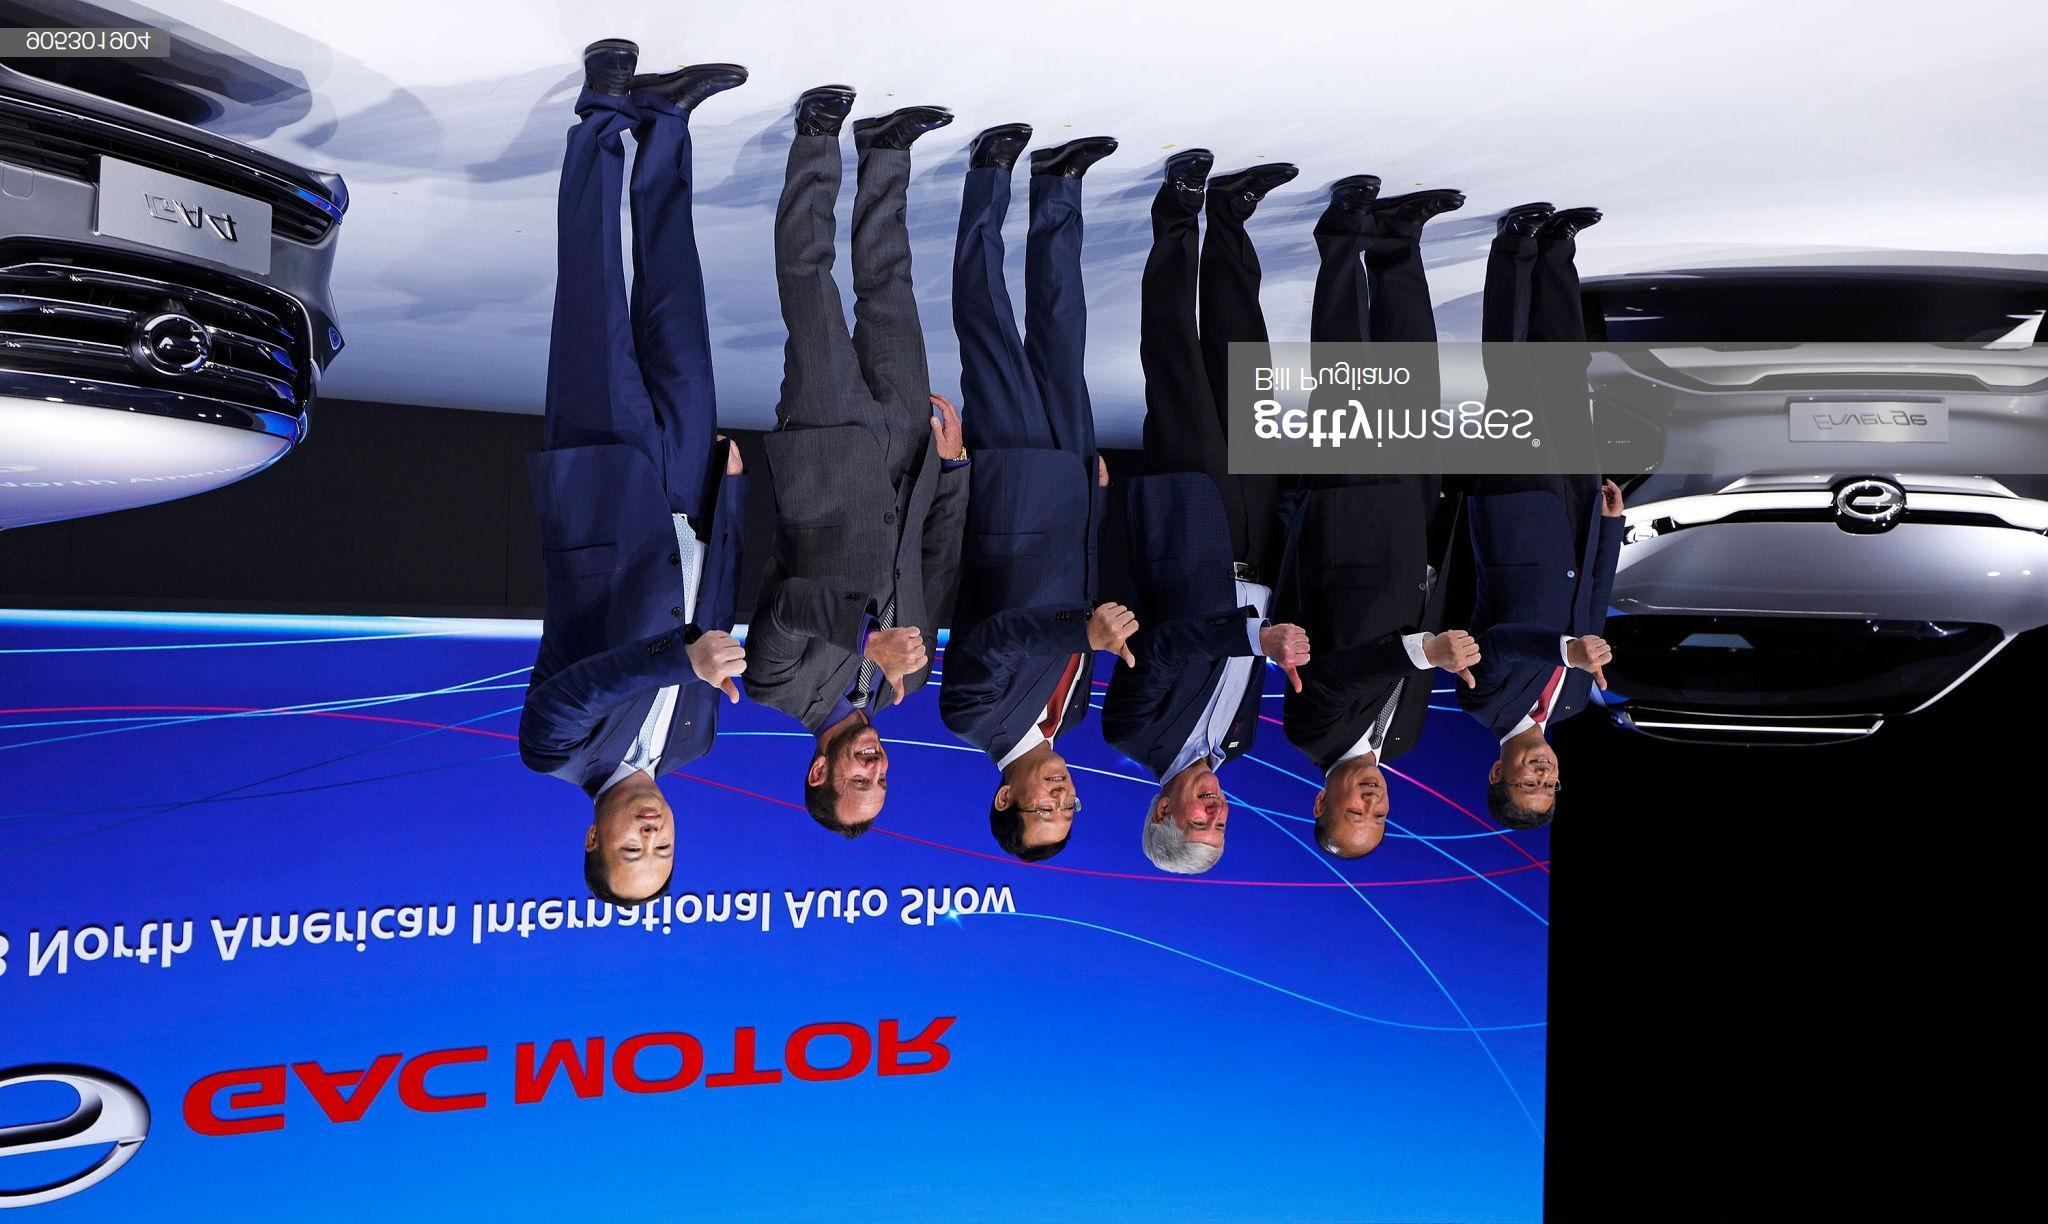thumbsdown: (706, 629, 749, 707), (891, 627, 929, 707), (1098, 602, 1139, 667), (1277, 624, 1311, 695), (1446, 629, 1481, 691), (1579, 635, 1612, 692)
